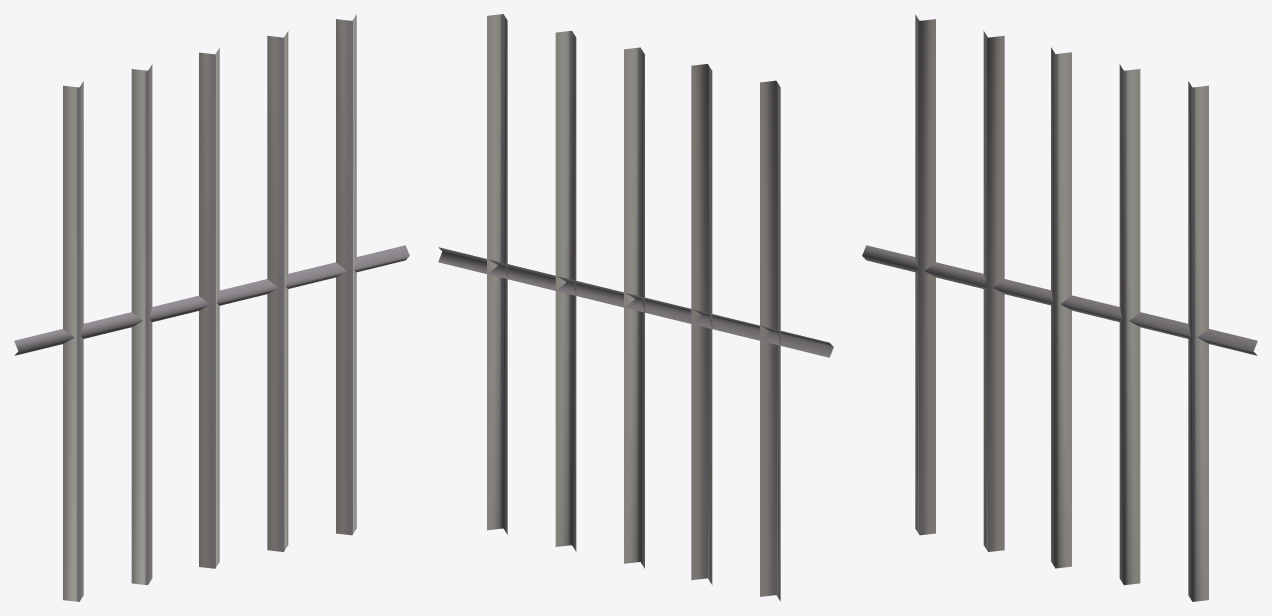
File: SM_ENV_K1_WINDOWBAR_02.fbx
3 renders of one model, left to right at view 1: azimuth 30°, elevation 25°; view 2: azimuth 150°, elevation 25°; view 3: azimuth 330°, elevation 25°, orthographic.
Parts seen in each view (by area): view 1: SM_ENV_K1_WINDOWBAR_02; view 2: SM_ENV_K1_WINDOWBAR_02; view 3: SM_ENV_K1_WINDOWBAR_02.
Part boxes in pixels (bbox=[...]): SM_ENV_K1_WINDOWBAR_02: bbox=[14, 14, 409, 601]; SM_ENV_K1_WINDOWBAR_02: bbox=[438, 14, 833, 601]; SM_ENV_K1_WINDOWBAR_02: bbox=[862, 14, 1257, 601].
Bounding box in the file's own units: 0.8 × 1 × 0.0212.
